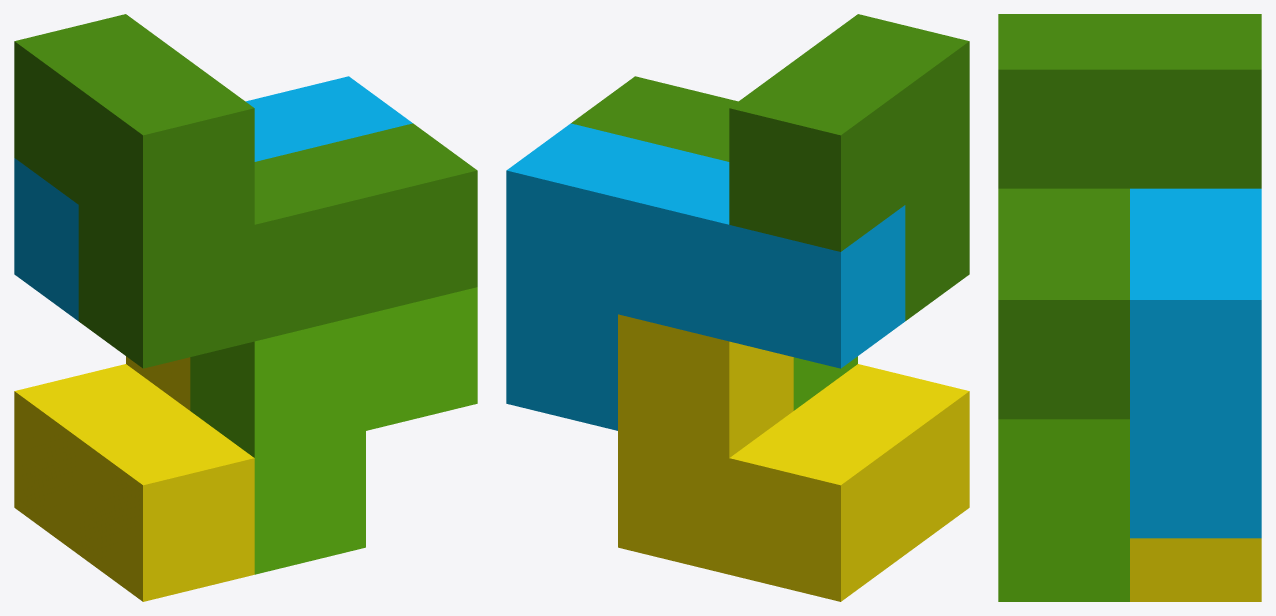
3 views of the same model, side by side, from view 1: azimuth 30°, elevation 25°; view 2: azimuth 150°, elevation 25°; view 3: azimuth 270°, elevation 25° (orthographic). The views are drawn at different scales.
Visible parts, largest first — view 1: mergedBlocks(Clone); view 2: mergedBlocks(Clone); view 3: mergedBlocks(Clone).
Boxes of the visible parts, <box> form: mergedBlocks(Clone): <box>14,14,477,601</box>; mergedBlocks(Clone): <box>506,14,969,601</box>; mergedBlocks(Clone): <box>998,14,1261,601</box>.
Bounding box in the file's own units: 3 × 4 × 2.
Materials: 4 (4 with a texture image).
